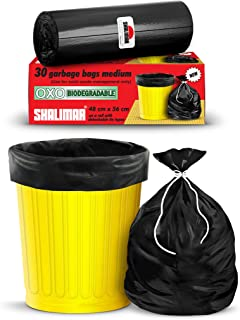plastic_bagwdw: (105, 142, 239, 320)
